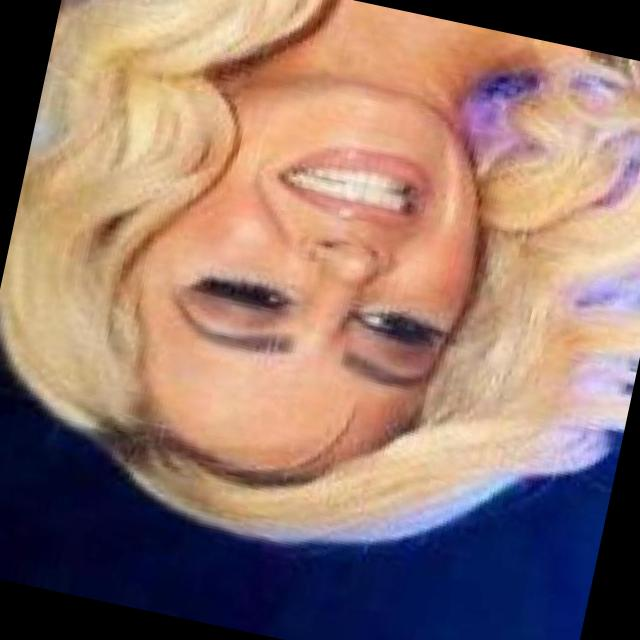bareface: (6, 27, 506, 553)
